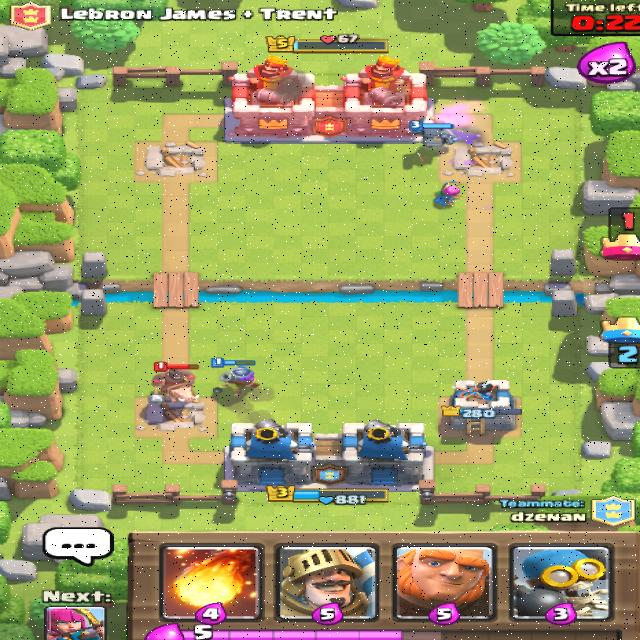Enemy-HogRider: (145, 360, 202, 406)
Player-Archer: (431, 180, 466, 209)
Player-MiniPEKKA: (406, 119, 458, 148)
Player-Musketeer: (208, 356, 260, 398)
